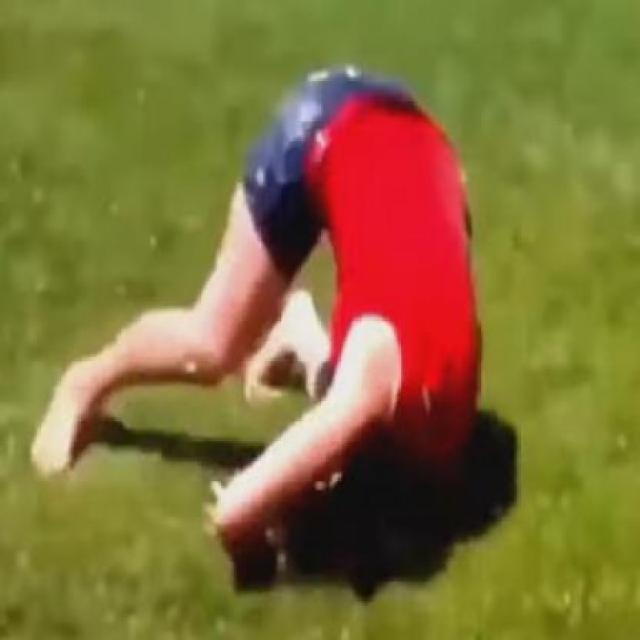fall: (33, 60, 498, 575)
